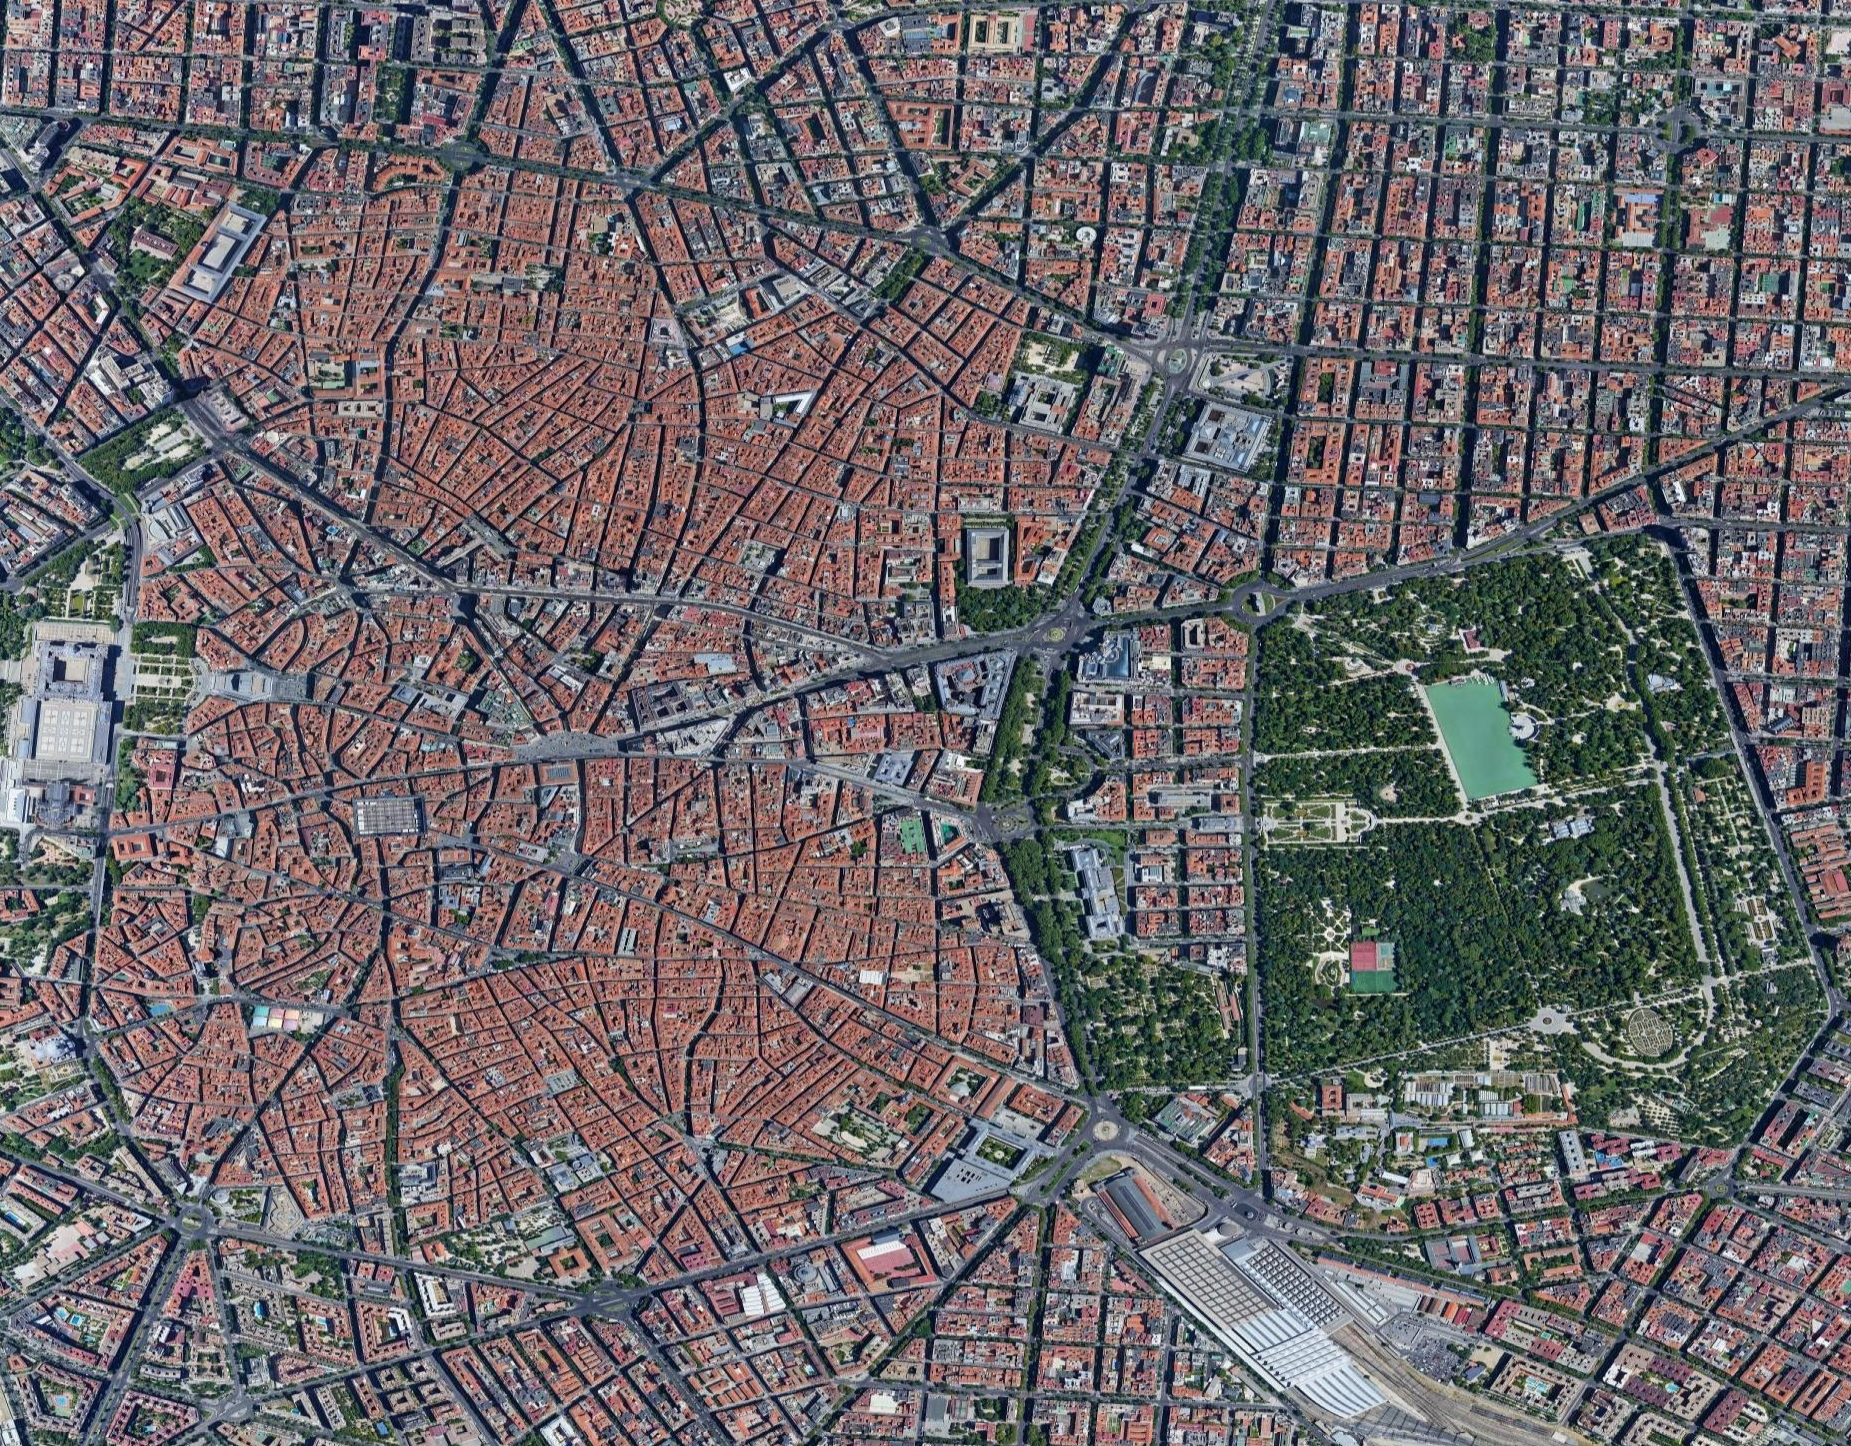train_station: (1164, 1230, 1393, 1432)
